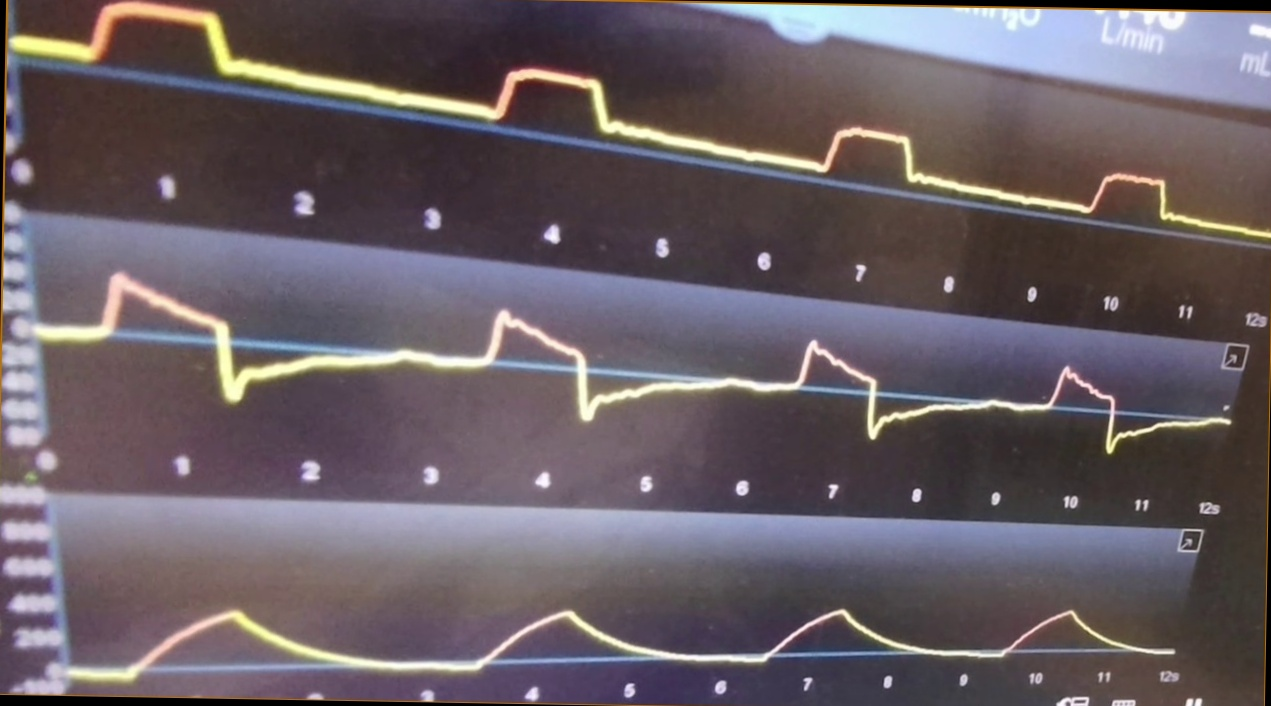Accumulation Flow: (51, 275, 1226, 455)
Volume: (68, 535, 1177, 701)
